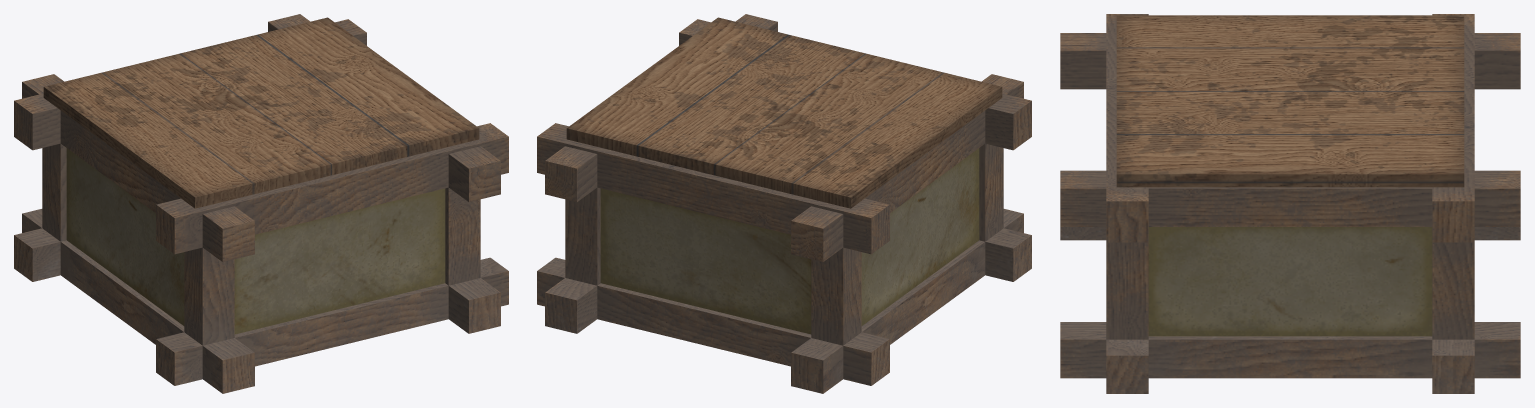
The picture shows the model from 3 angles, left to right: view 1: azimuth 30°, elevation 25°; view 2: azimuth 150°, elevation 25°; view 3: azimuth 270°, elevation 25°; orthographic projection. The views are drawn at different scales.
Parts seen in each view (by area): view 1: 井戸本体, 井戸フタ; view 2: 井戸本体, 井戸フタ; view 3: 井戸本体, 井戸フタ.
Boxes of the visible parts, box(x1,y1,x2,y2) form: 井戸本体: box(14, 14, 508, 393); 井戸フタ: box(43, 17, 479, 208); 井戸本体: box(537, 14, 1031, 393); 井戸フタ: box(566, 17, 1002, 208); 井戸本体: box(1060, 14, 1520, 393); 井戸フタ: box(1116, 15, 1464, 187).
Bounding box in the file's own units: 1.57 × 0.8014 × 1.63.
